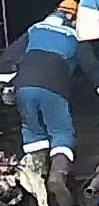gloves: (1, 85, 16, 106)
helmet: (56, 1, 81, 15)
vest: (17, 20, 82, 112)
